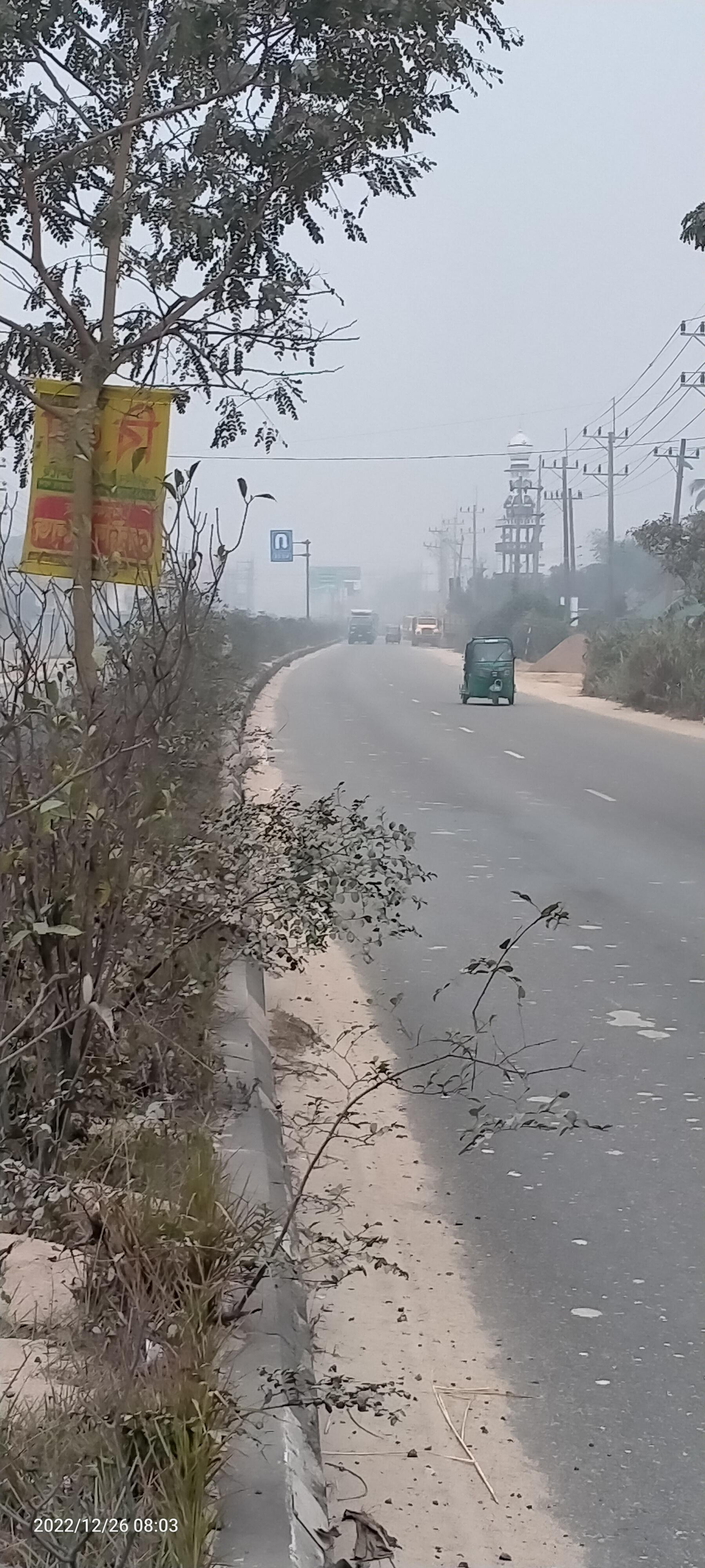Truck: (407, 610, 446, 649), (346, 610, 380, 647)
